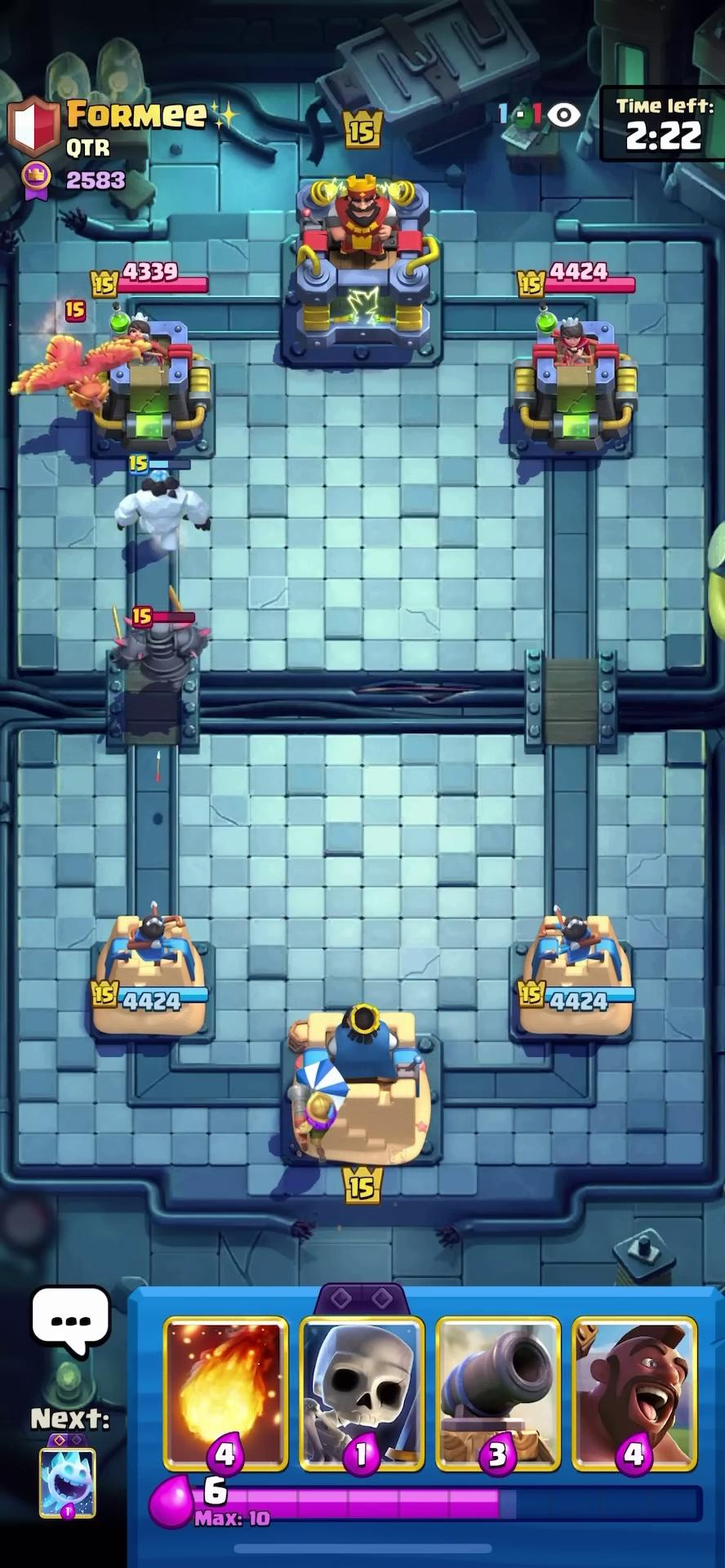ice_golem: (112, 449, 222, 568)
